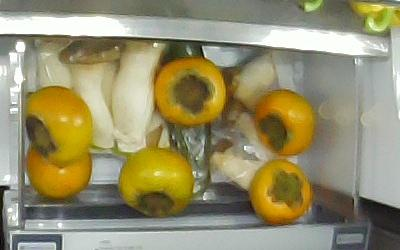persimmon: (26, 86, 93, 164), (118, 146, 192, 216), (156, 57, 225, 126), (255, 90, 316, 158), (24, 139, 93, 199), (248, 159, 312, 223)
